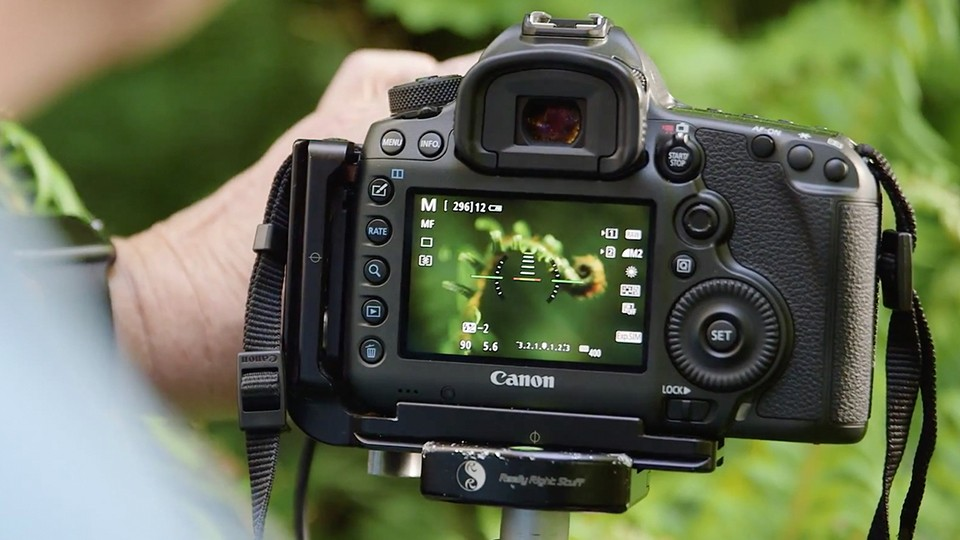camera: (289, 18, 873, 466)
